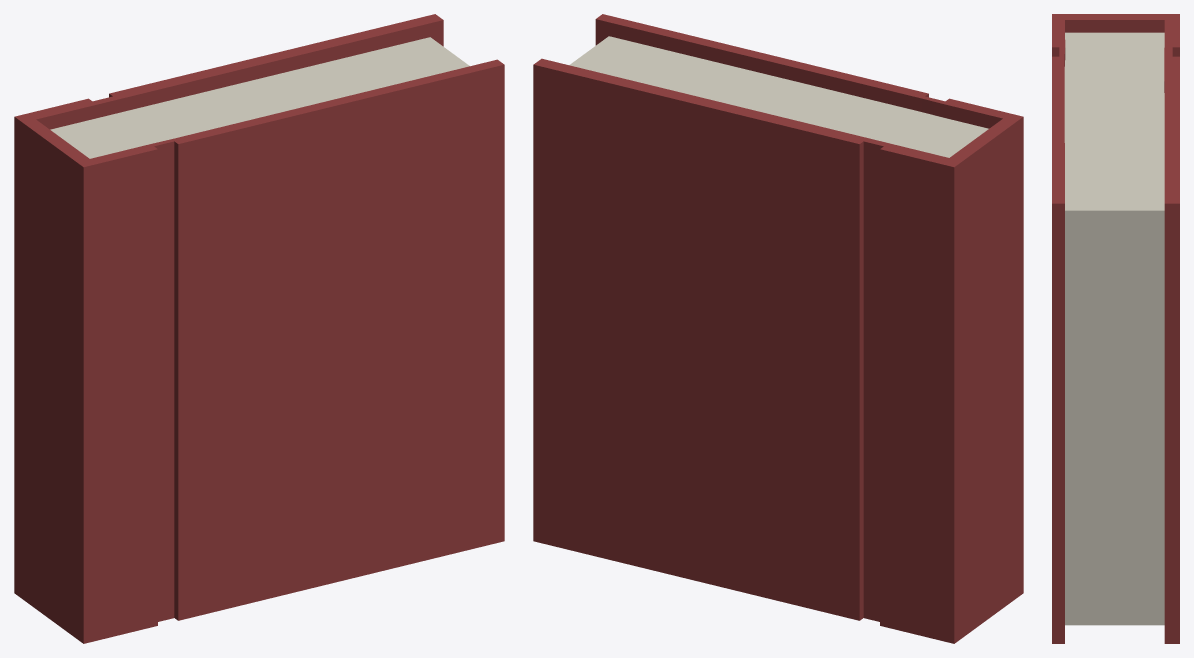
File: Book_low.fbx
3 renders of one model, left to right at view 1: azimuth 30°, elevation 25°; view 2: azimuth 150°, elevation 25°; view 3: azimuth 270°, elevation 25°, orthographic. The views are drawn at different scales.
Visible parts, largest first — view 1: Book_low; view 2: Book_low; view 3: Book_low.
Part boxes in pixels (box(x1,y1,x2,y2)): Book_low: box(14, 14, 504, 643); Book_low: box(533, 14, 1023, 643); Book_low: box(1052, 14, 1179, 643).
Size of the model in its own units: 34.17 by 36.98 by 9.73.
